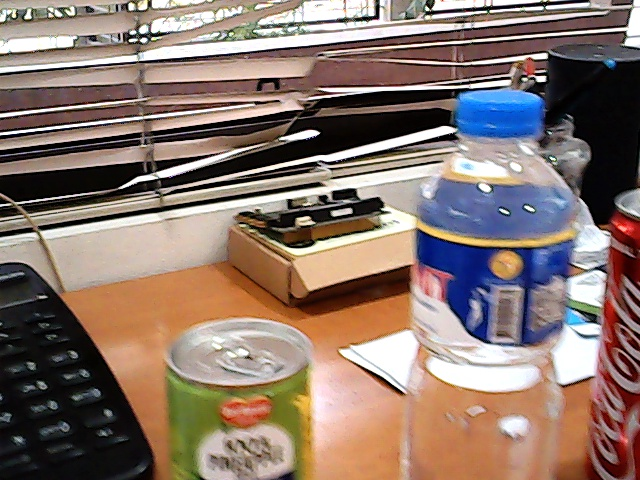Cola: (581, 171, 640, 480)
Pine Juice: (143, 304, 330, 480)
Summit Water: (392, 75, 588, 480)
